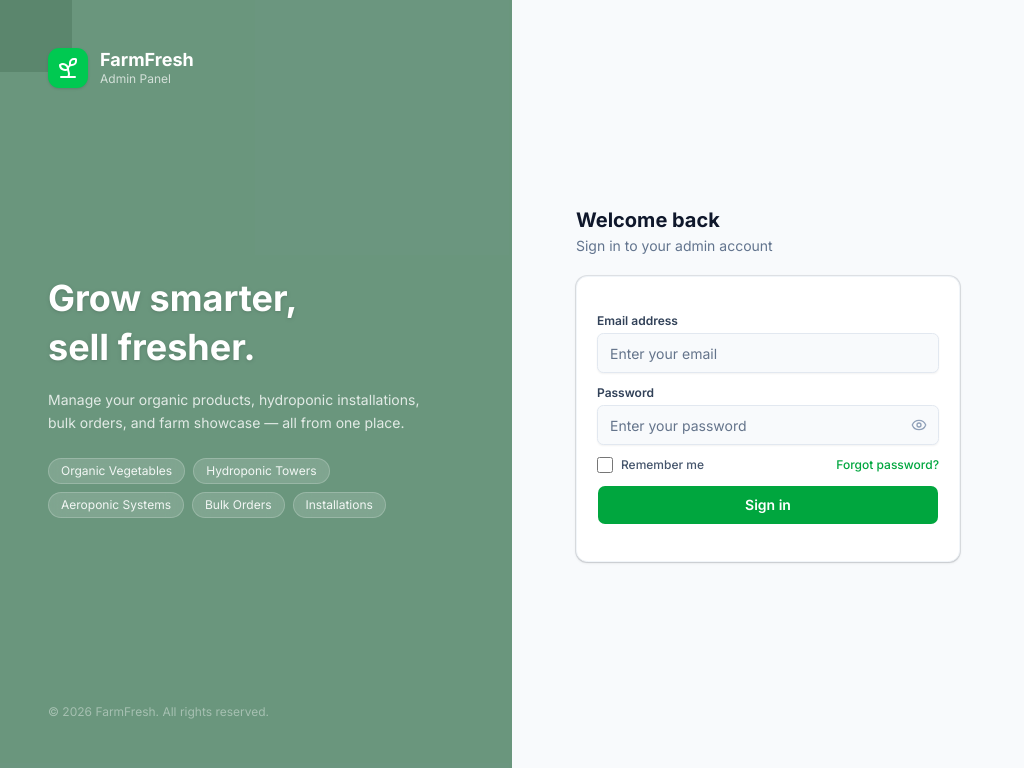
Test: AdminLoginPage › shows error message from API on failed login
The width and height of the screenshot is (1024, 768).
Type "admin@farmfresh.com" into the field with placeholder "Enter your email" at (768,353), box left=597, top=333, right=939, bottom=373
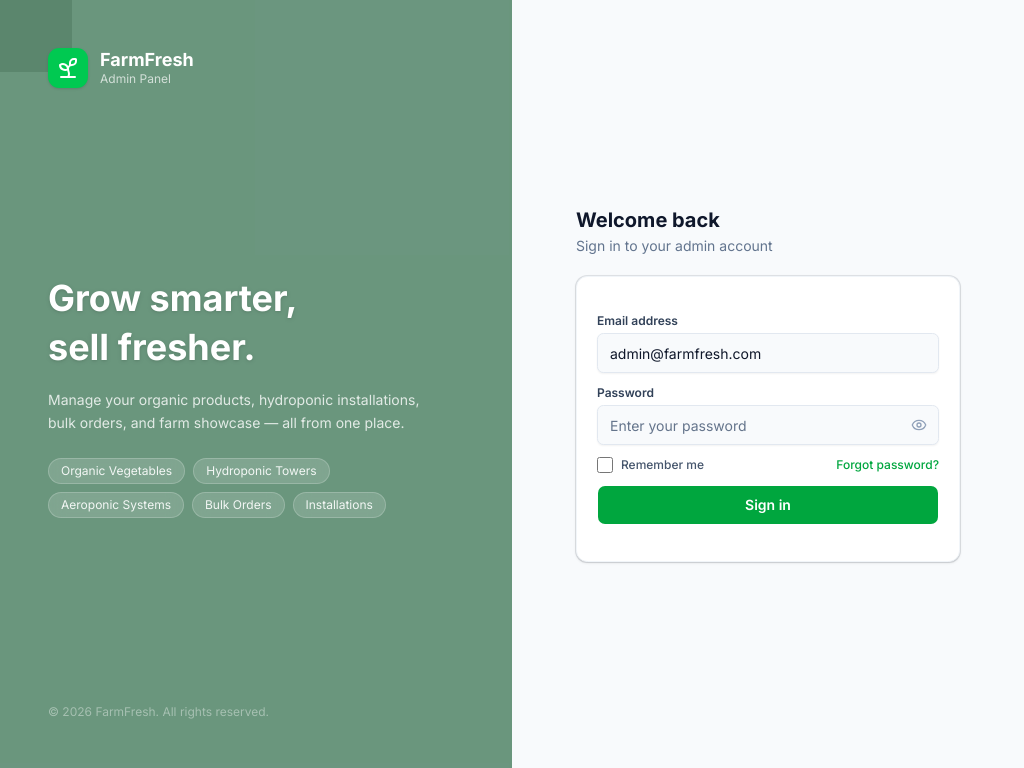
Type "wrongpass" into the password field with placeholder "Enter your password" at (768,425), box left=597, top=405, right=939, bottom=445
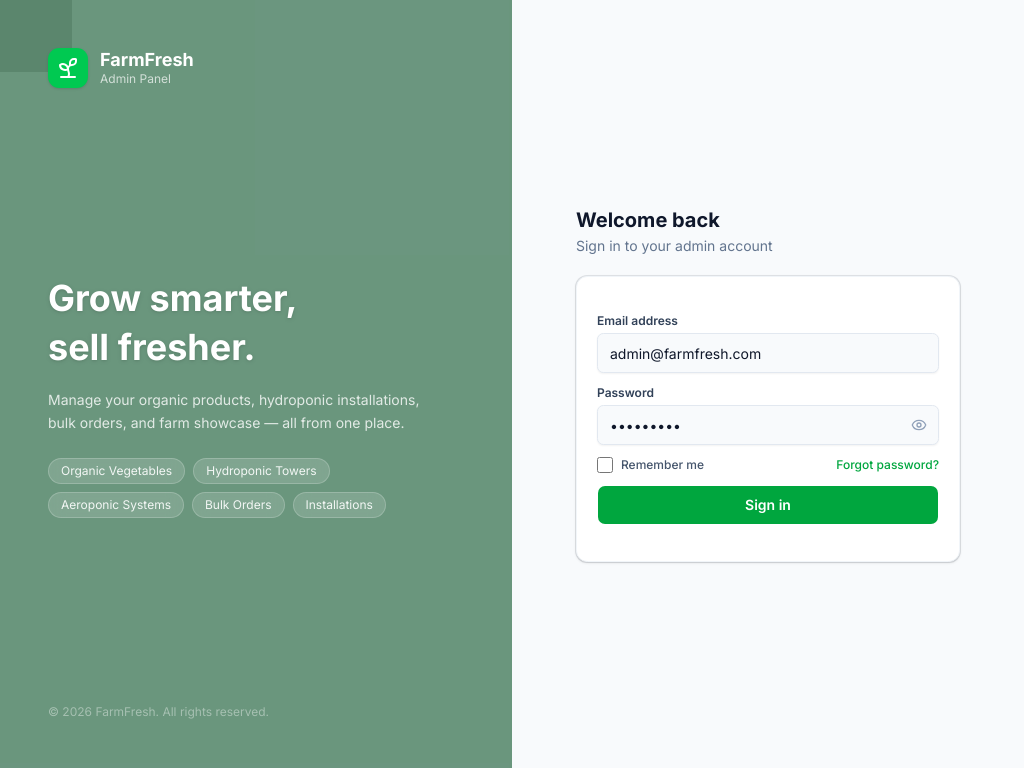
Submit the form with placeholder "Enter your email", box left=597, top=313, right=939, bottom=525
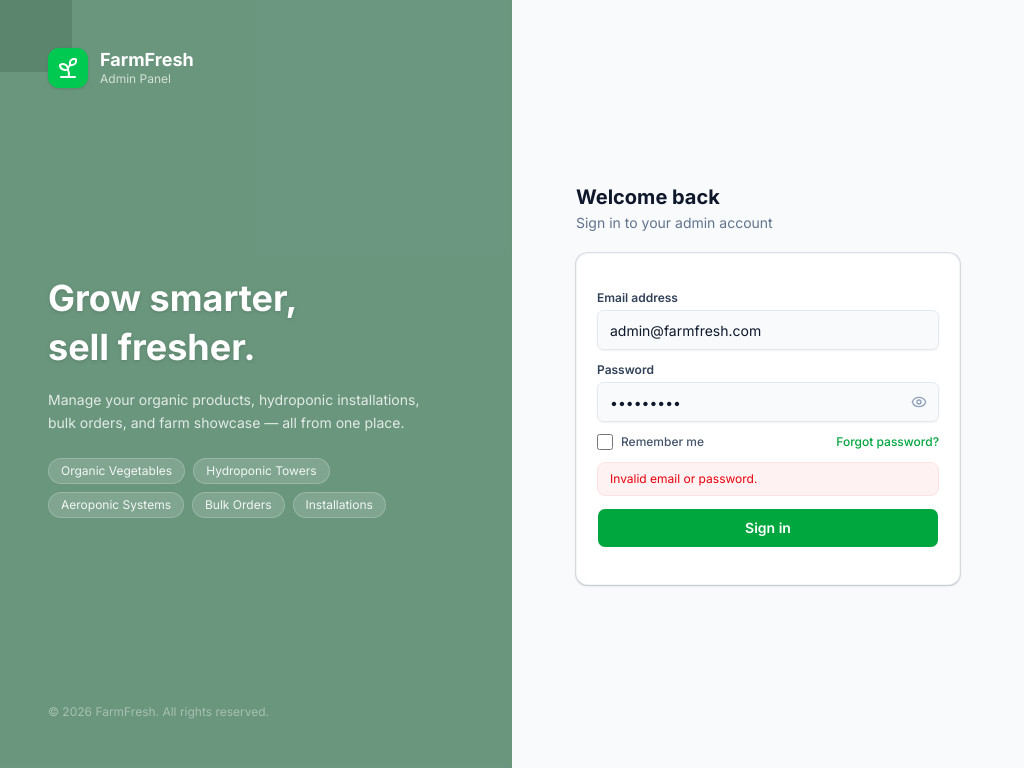
Result: the text "Invalid email or password." is shown at left=597, top=462, right=939, bottom=496
